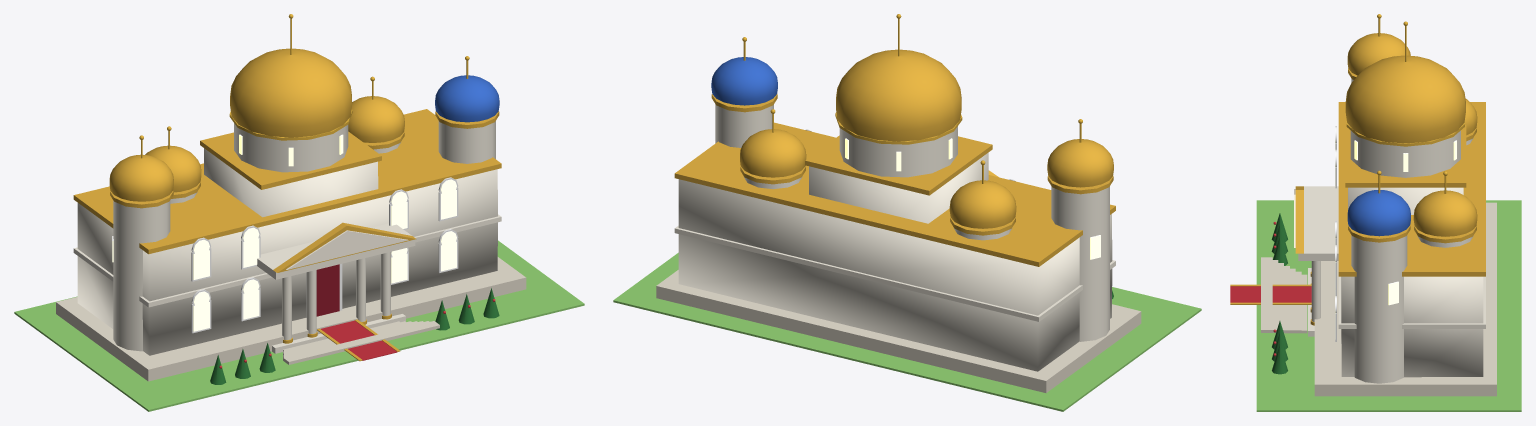
Rendered from palace.glb.
3 views of the same model, side by side, from view 1: azimuth 30°, elevation 25°; view 2: azimuth 150°, elevation 25°; view 3: azimuth 270°, elevation 25° (orthographic). The views are drawn at different scales.
Visible parts, largest first — view 1: root; view 2: root; view 3: root.
Part boxes in pixels (x1=…): root: x1=14, y1=14, x2=584, y2=411; root: x1=613, y1=14, x2=1201, y2=411; root: x1=1230, y1=14, x2=1521, y2=411.
Size of the model in its own units: 30 by 19.02 by 17.6.
